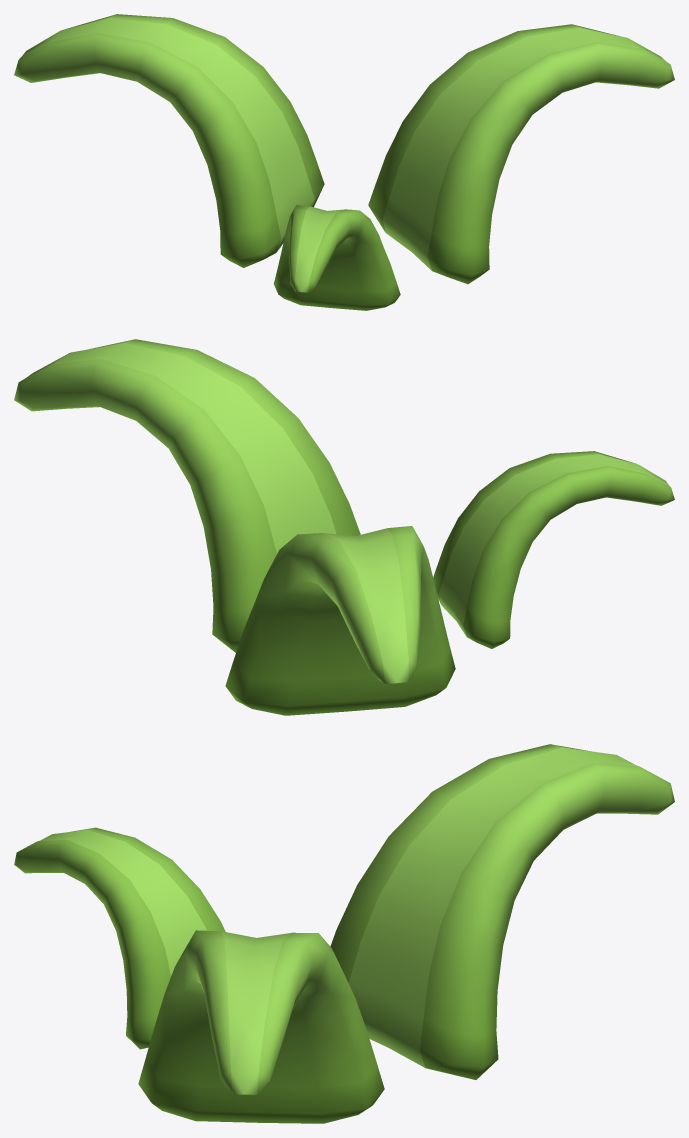
The model's file is reeds_3.fbx.
3 views of the same model, one above another, from view 1: azimuth 30°, elevation 25°; view 2: azimuth 150°, elevation 25°; view 3: azimuth 270°, elevation 25° (orthographic). The views are drawn at different scales.
Parts seen in each view (by area): view 1: reeds_3; view 2: reeds_3; view 3: reeds_3.
Boxes of the visible parts, box(x1,y1,x2,y2) form: reeds_3: box(14, 14, 674, 310); reeds_3: box(14, 339, 674, 715); reeds_3: box(14, 744, 674, 1123).
Size of the model in its own units: 96.57 by 35.06 by 89.59.
Materials: 1 (1 with a texture image).
